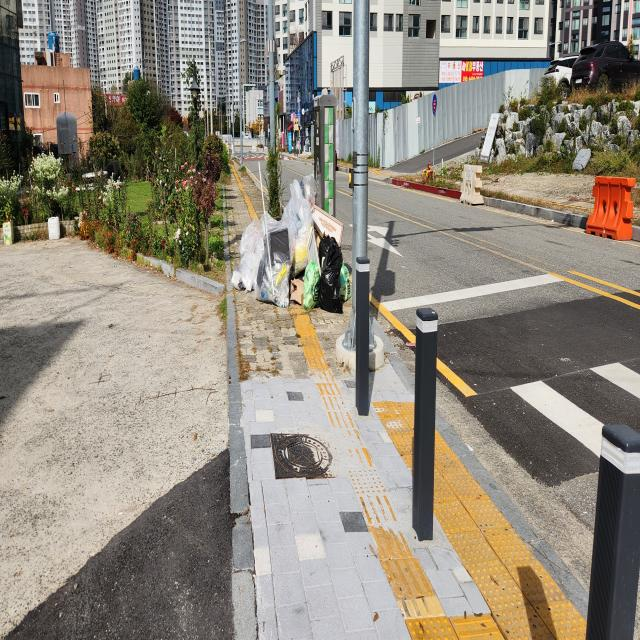General Waste: (237, 176, 318, 311), (300, 256, 320, 315), (336, 266, 354, 311)
